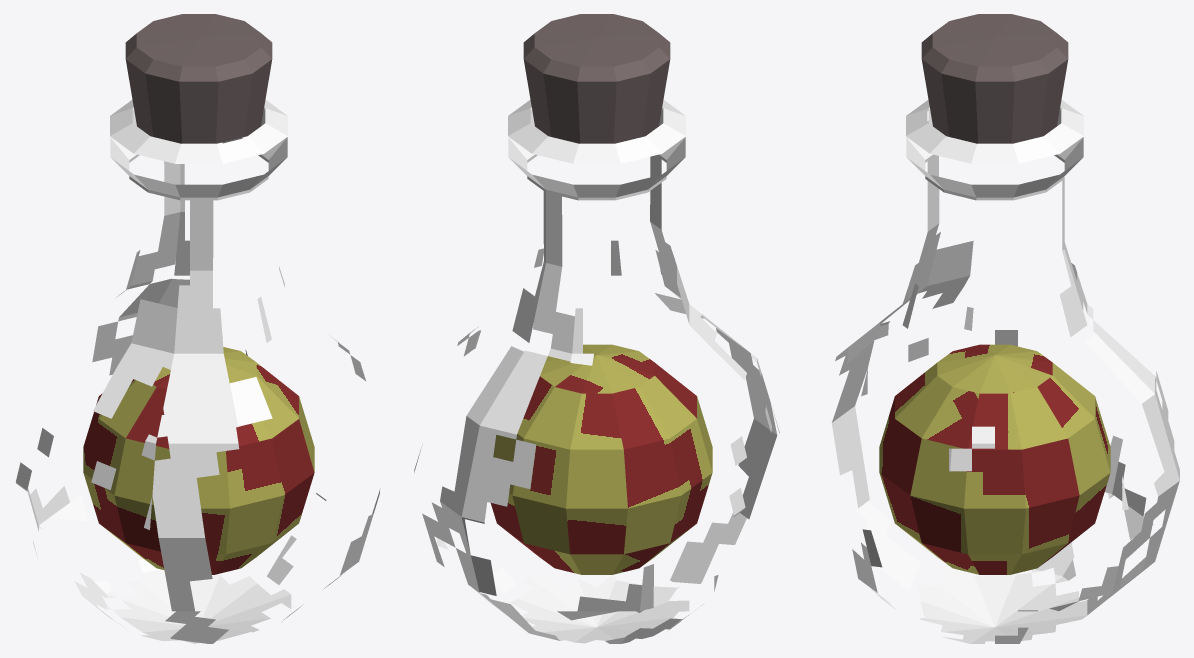
File: spell_red.gltf
The picture shows the model from 3 angles, left to right: view 1: azimuth 30°, elevation 25°; view 2: azimuth 150°, elevation 25°; view 3: azimuth 270°, elevation 25°; orthographic projection.
Visible parts, largest first — view 1: potion, sphere; view 2: potion, sphere; view 3: potion, sphere.
Part boxes in pixels (<box>): potion: <box>16,14,380,643</box>; sphere: <box>83,347,314,574</box>; potion: <box>414,14,779,643</box>; sphere: <box>490,344,712,574</box>; potion: <box>832,14,1179,643</box>; sphere: <box>879,344,1110,574</box>.
Size of the model in its own units: 1 by 1.76 by 1.
Materials: 2 (2 with a texture image).
